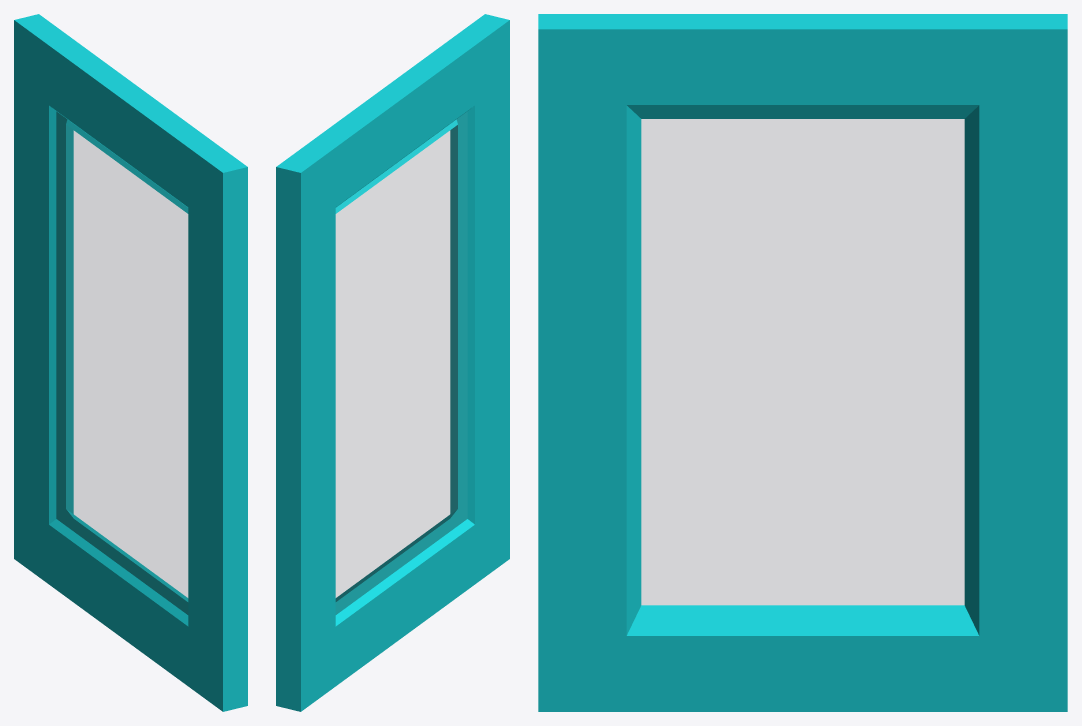
Rendered from jammodernovi.fbx.
3 views of the same model, side by side, from view 1: azimuth 30°, elevation 25°; view 2: azimuth 150°, elevation 25°; view 3: azimuth 270°, elevation 25° (orthographic). The views are drawn at different scales.
Visible parts, largest first — view 1: Cube.002; view 2: Cube.002; view 3: Cube.002.
Part boxes in pixels (bbox=[...]): Cube.002: bbox=[14, 14, 247, 711]; Cube.002: bbox=[276, 14, 509, 711]; Cube.002: bbox=[538, 14, 1067, 711].
Bounding box in the file's own units: 12.79 × 266 × 187.
